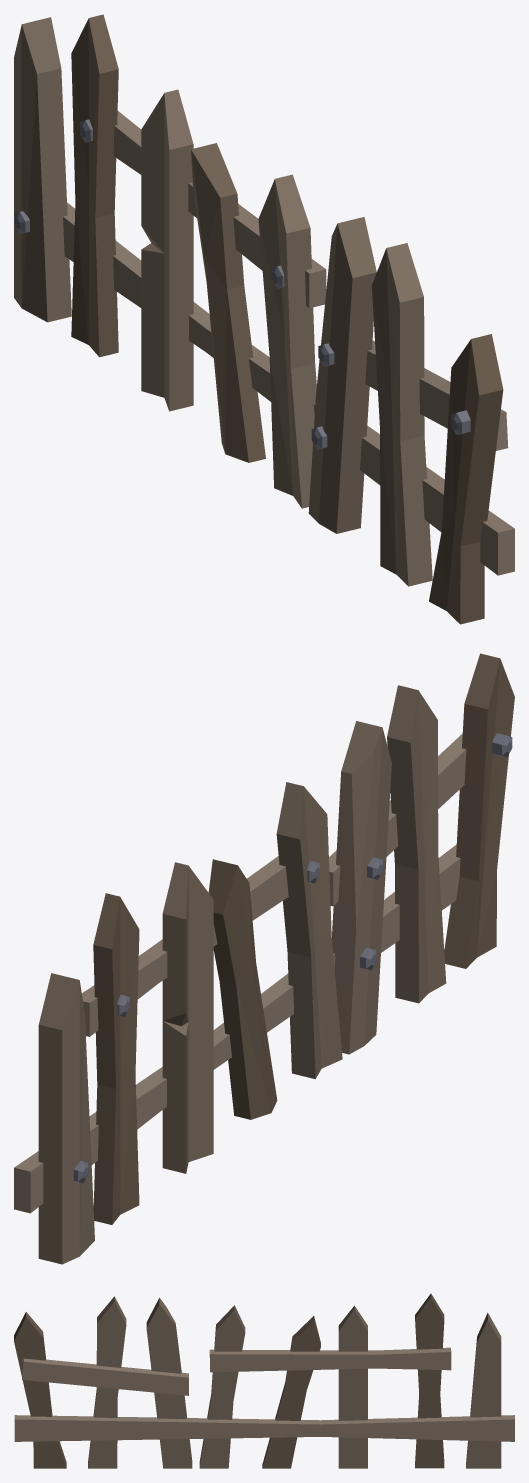
File: Fence_03.glb
3 renders of one model, top to bottom at view 1: azimuth 30°, elevation 25°; view 2: azimuth 150°, elevation 25°; view 3: azimuth 270°, elevation 25°, orthographic. The views are drawn at different scales.
Parts seen in each view (by area): view 1: Fense_3; view 2: Fense_3; view 3: Fense_3.
Part boxes in pixels (box(x1,y1,x2,y2)): Fense_3: box(14, 14, 514, 624); Fense_3: box(14, 653, 514, 1264); Fense_3: box(14, 1293, 514, 1468).
Size of the model in its own units: 0.1936 by 1.29 by 3.41.
Materials: 1 (1 with a texture image).
